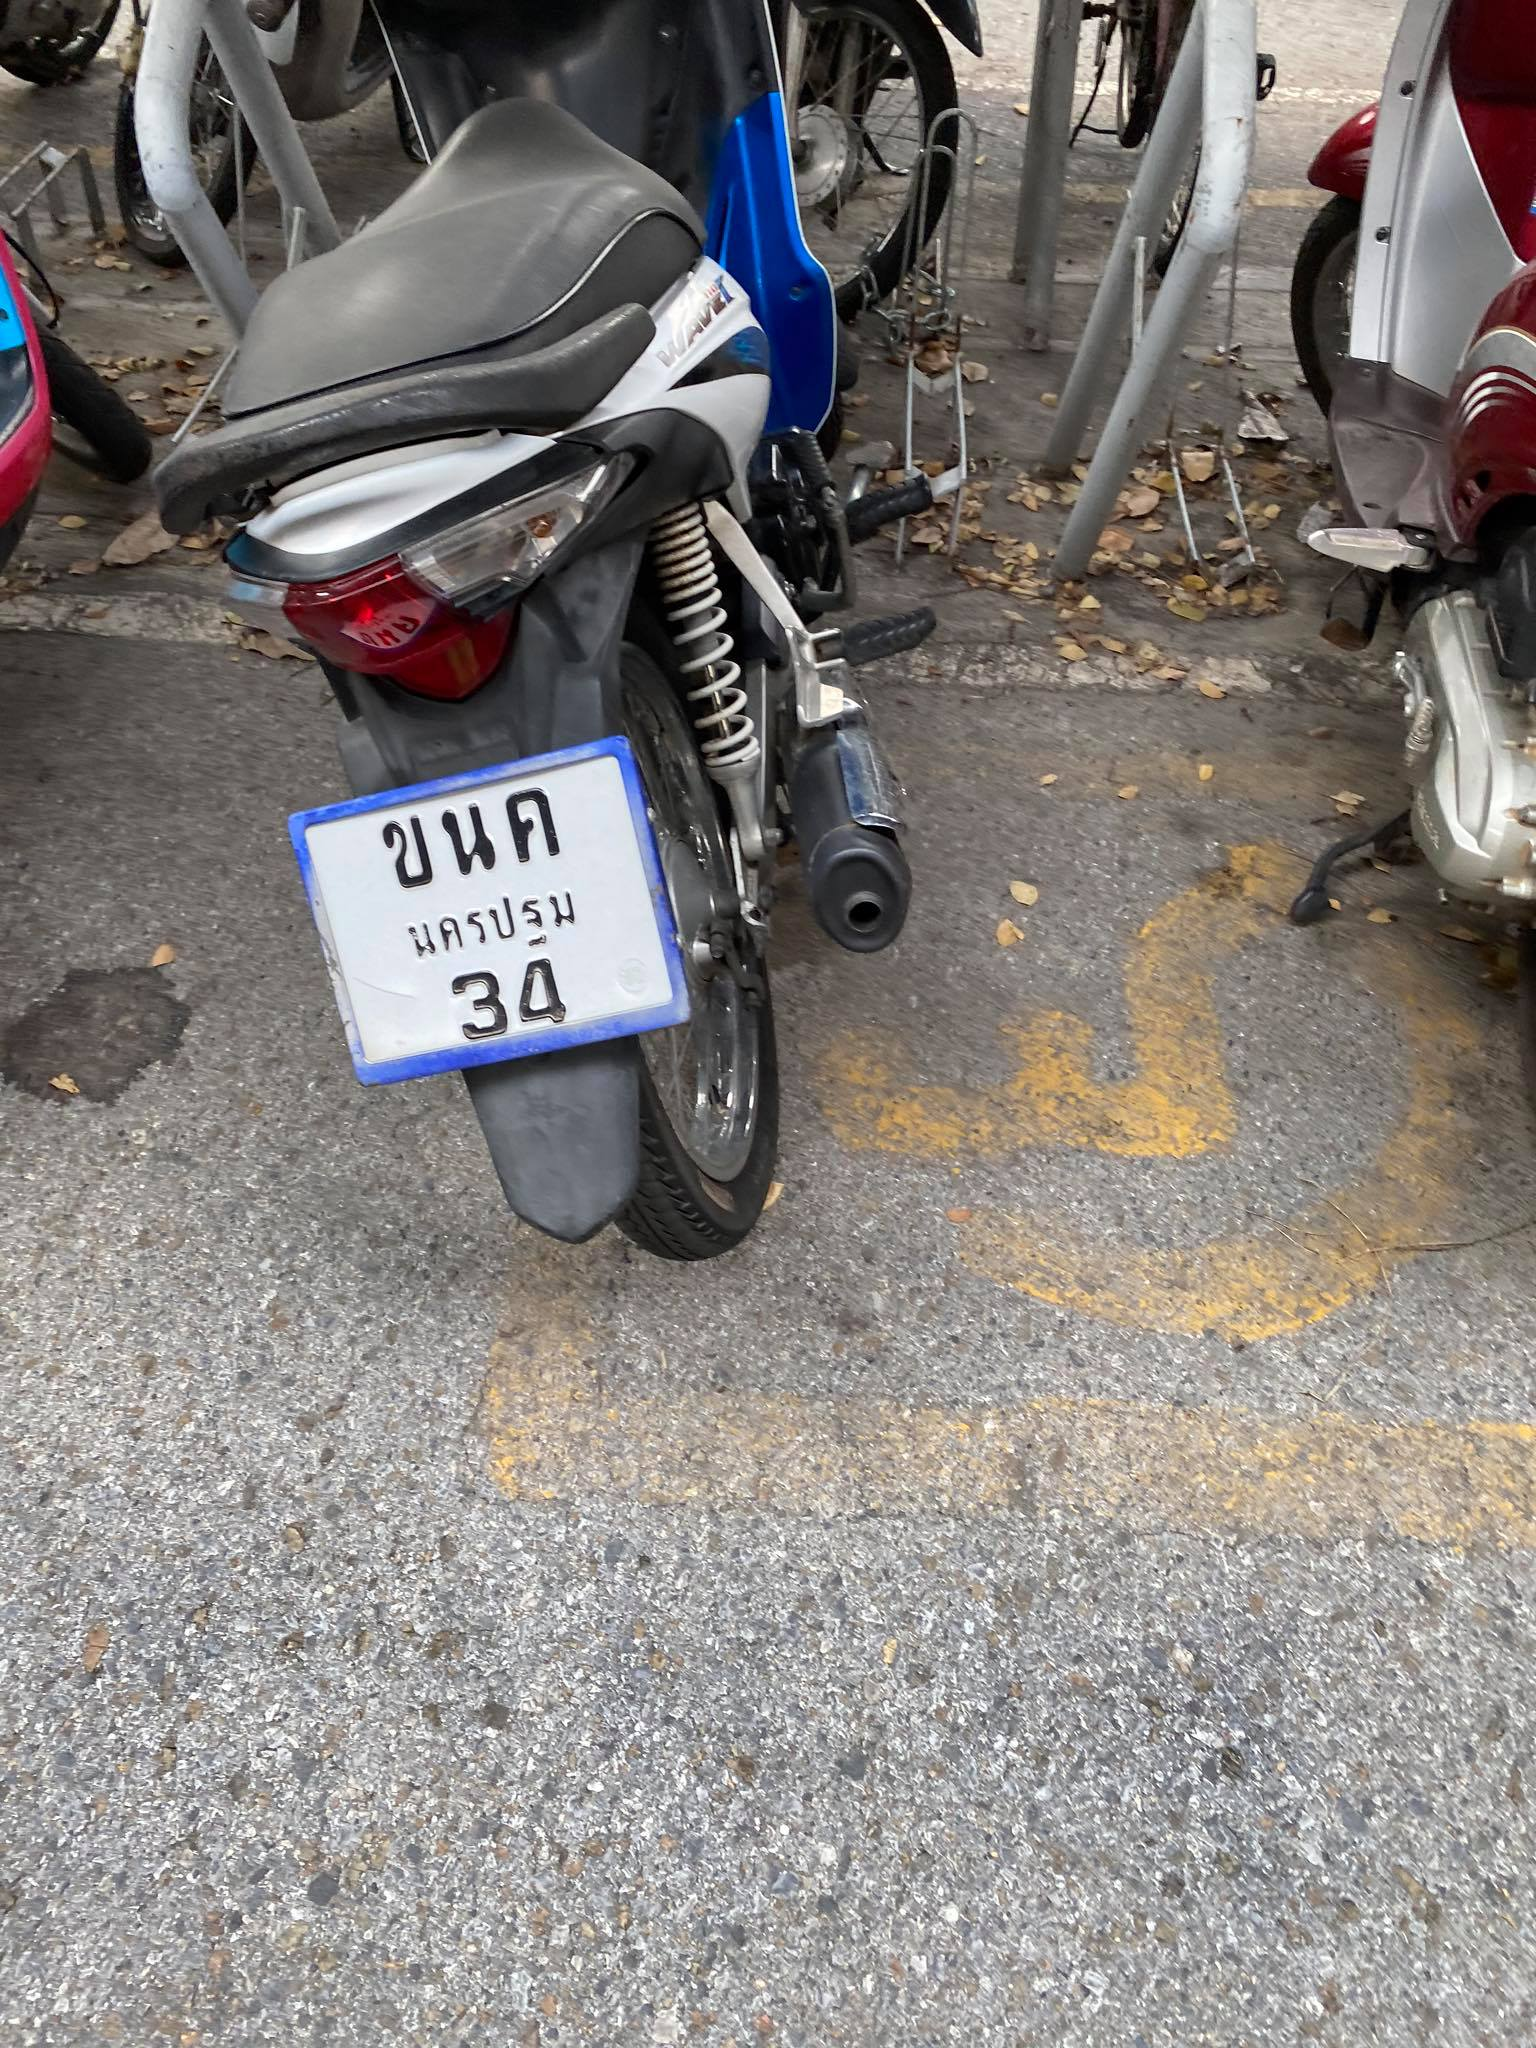line1: (379, 784, 563, 889)
line2: (400, 892, 582, 964)
line3: (432, 968, 573, 1048)
